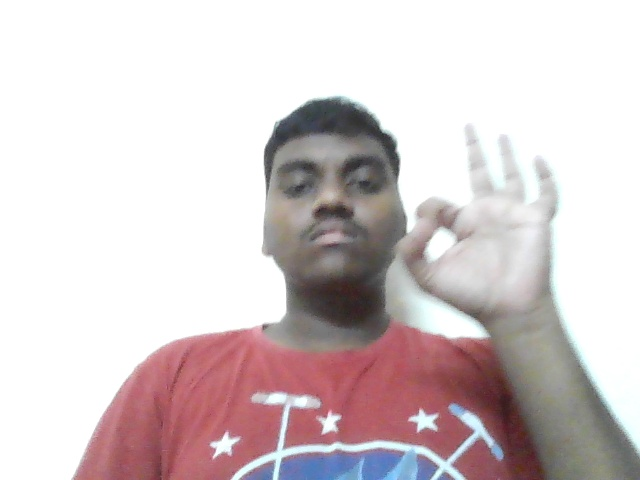Nice: (392, 120, 586, 355)
